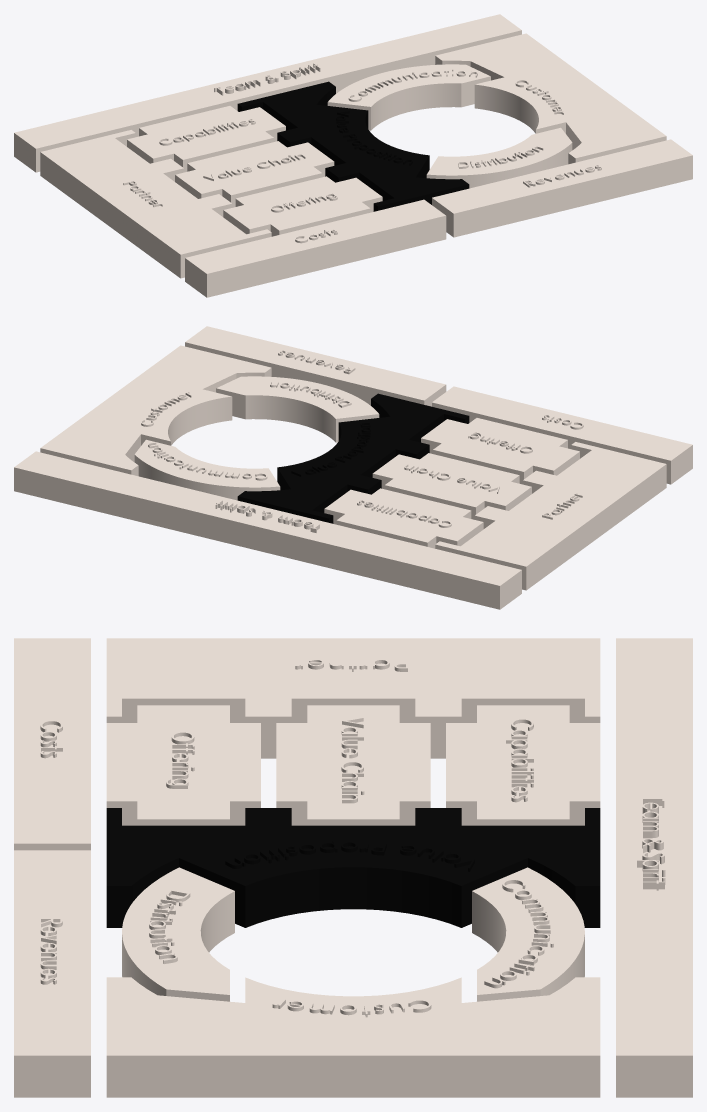
File: 20250820_Canvas.glb
3 renders of one model, top to bottom at view 1: azimuth 30°, elevation 25°; view 2: azimuth 150°, elevation 25°; view 3: azimuth 270°, elevation 25°, orthographic. The views are drawn at different scales.
Visible parts, largest first — view 1: 20250730_Partner-1, 20250730_Team-1, 20250730_Customer-1, 20250730_Costs-1, 20250730_Revenues-1, 20250730_Value Proposition_v3-1, 20250730_Capabilities-1, 20250730_Value Chain-1, 20250730_Offering-1, 20250730_Communication-1, 20250730_Distribution-1; view 2: 20250730_Team-1, 20250730_Partner-1, 20250730_Customer-1, 20250730_Value Proposition_v3-1, 20250730_Revenues-1, 20250730_Costs-1, 20250730_Offering-1, 20250730_Value Chain-1, 20250730_Capabilities-1, 20250730_Distribution-1, 20250730_Communication-1; view 3: 20250730_Customer-1, 20250730_Value Proposition_v3-1, 20250730_Partner-1, 20250730_Team-1, 20250730_Revenues-1, 20250730_Value Chain-1, 20250730_Capabilities-1, 20250730_Offering-1, 20250730_Costs-1, 20250730_Distribution-1, 20250730_Communication-1.
Boxes of the visible parts, x1,y1,x2,y2 form: 20250730_Partner-1: [40, 130, 271, 278]; 20250730_Team-1: [14, 14, 521, 172]; 20250730_Customer-1: [435, 33, 666, 164]; 20250730_Costs-1: [185, 199, 446, 297]; 20250730_Revenues-1: [432, 139, 692, 237]; 20250730_Value Proposition_v3-1: [237, 81, 469, 211]; 20250730_Capabilities-1: [127, 106, 285, 172]; 20250730_Value Chain-1: [175, 141, 334, 207]; 20250730_Offering-1: [223, 176, 382, 236]; 20250730_Communication-1: [327, 64, 490, 130]; 20250730_Distribution-1: [426, 127, 572, 188]; 20250730_Team-1: [14, 451, 521, 609]; 20250730_Partner-1: [435, 442, 666, 590]; 20250730_Customer-1: [40, 345, 271, 476]; 20250730_Value Proposition_v3-1: [237, 393, 469, 523]; 20250730_Revenues-1: [185, 326, 446, 406]; 20250730_Costs-1: [432, 386, 692, 484]; 20250730_Offering-1: [421, 418, 579, 484]; 20250730_Value Chain-1: [372, 453, 531, 519]; 20250730_Capabilities-1: [324, 488, 483, 548]; 20250730_Distribution-1: [216, 376, 379, 442]; 20250730_Communication-1: [134, 439, 280, 500]; 20250730_Customer-1: [106, 977, 600, 1097]; 20250730_Value Proposition_v3-1: [106, 808, 600, 927]; 20250730_Partner-1: [106, 638, 600, 758]; 20250730_Team-1: [616, 638, 692, 1097]; 20250730_Revenues-1: [14, 850, 90, 1097]; 20250730_Value Chain-1: [276, 705, 430, 825]; 20250730_Capabilities-1: [446, 705, 600, 825]; 20250730_Offering-1: [106, 705, 260, 825]; 20250730_Costs-1: [14, 638, 90, 850]; 20250730_Distribution-1: [122, 867, 234, 1001]; 20250730_Communication-1: [472, 867, 584, 1001].
Size of the model in its own units: 1.28 by 0.07 by 0.88.
11 materials, 1 textured.
